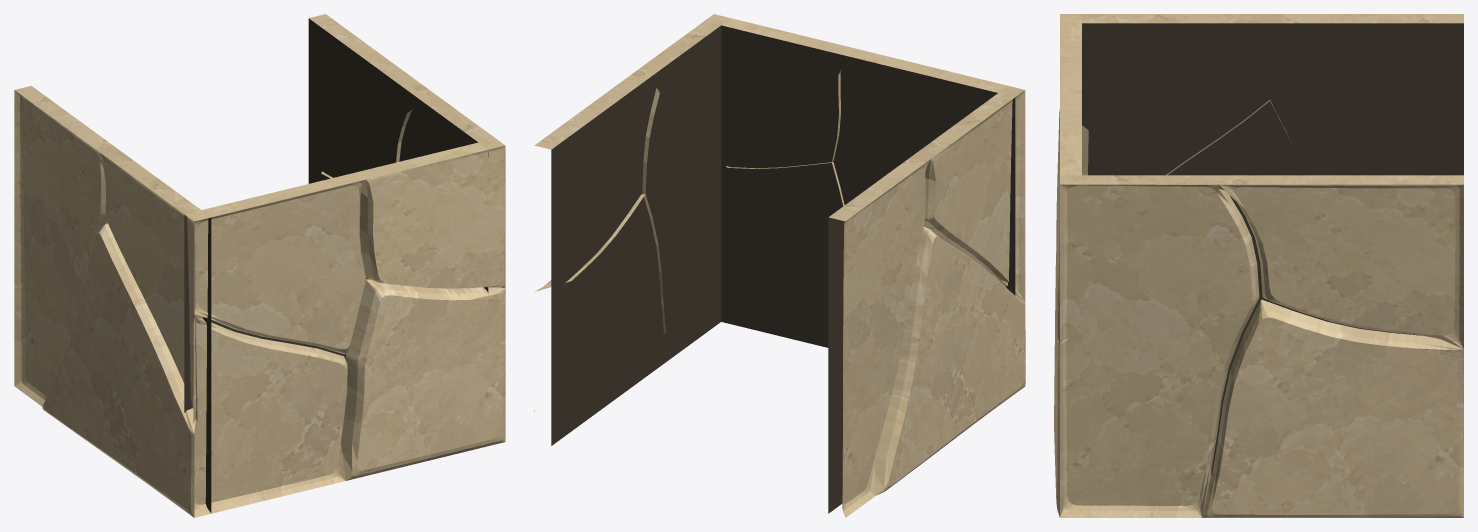
File: ground_end_10.glb
3 renders of one model, left to right at view 1: azimuth 30°, elevation 25°; view 2: azimuth 150°, elevation 25°; view 3: azimuth 270°, elevation 25°, orthographic. The views are drawn at different scales.
Visible parts, largest first — view 1: GroundEnd10_Body; view 2: GroundEnd10_Body; view 3: GroundEnd10_Body.
Boxes of the visible parts, bbox=[...] form: GroundEnd10_Body: bbox=[14, 14, 505, 517]; GroundEnd10_Body: bbox=[534, 14, 1025, 517]; GroundEnd10_Body: bbox=[1054, 14, 1463, 517].
Bounding box in the file's own units: 1.03 × 0.91 × 1.01.
Materials: 12 (11 with a texture image).
